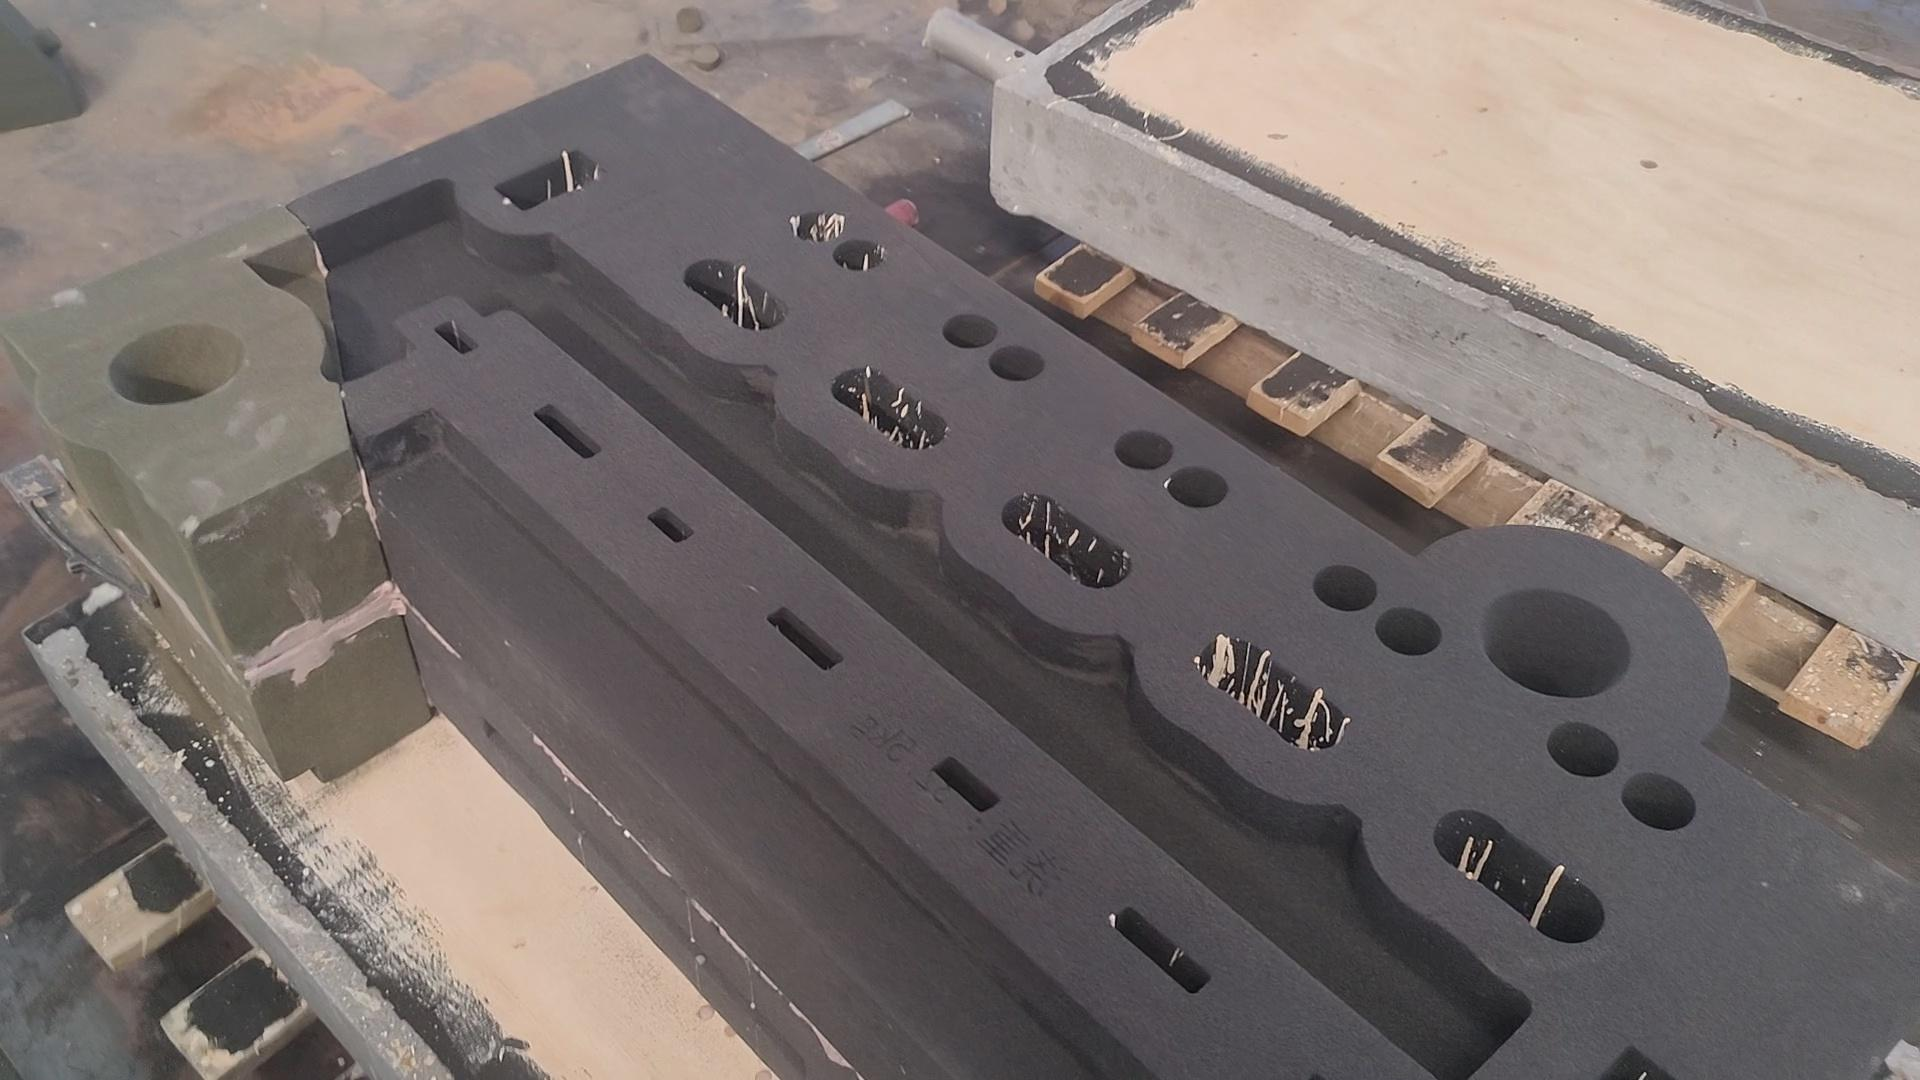pouring hole: (1480, 588, 1631, 702), (105, 322, 248, 405)
